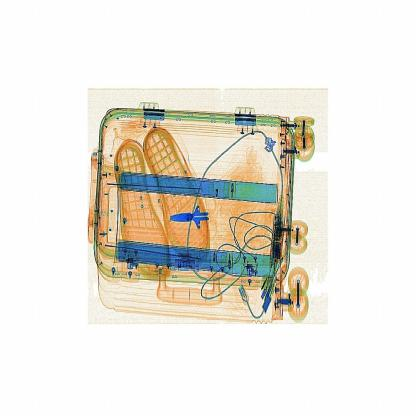gun: (173, 187, 228, 249)
